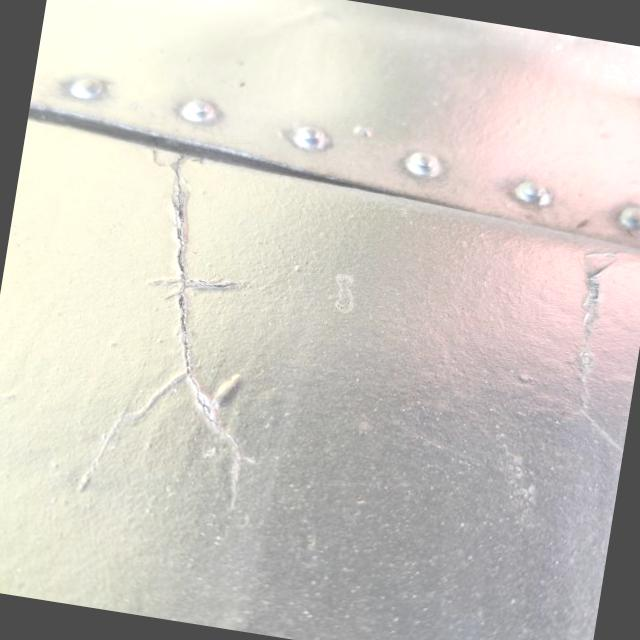crack: (86, 135, 318, 532)
